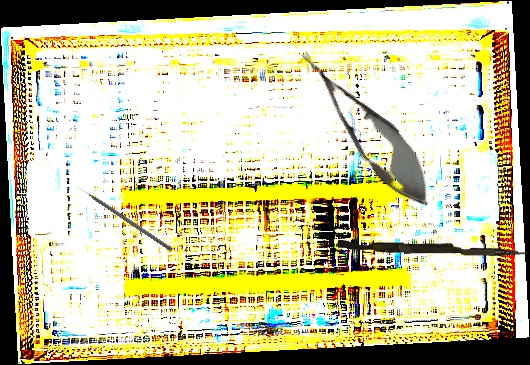Hook Surgical: (75, 183, 174, 252)
Micro Scissor: (284, 38, 448, 219)
Pusher: (337, 240, 528, 257)
